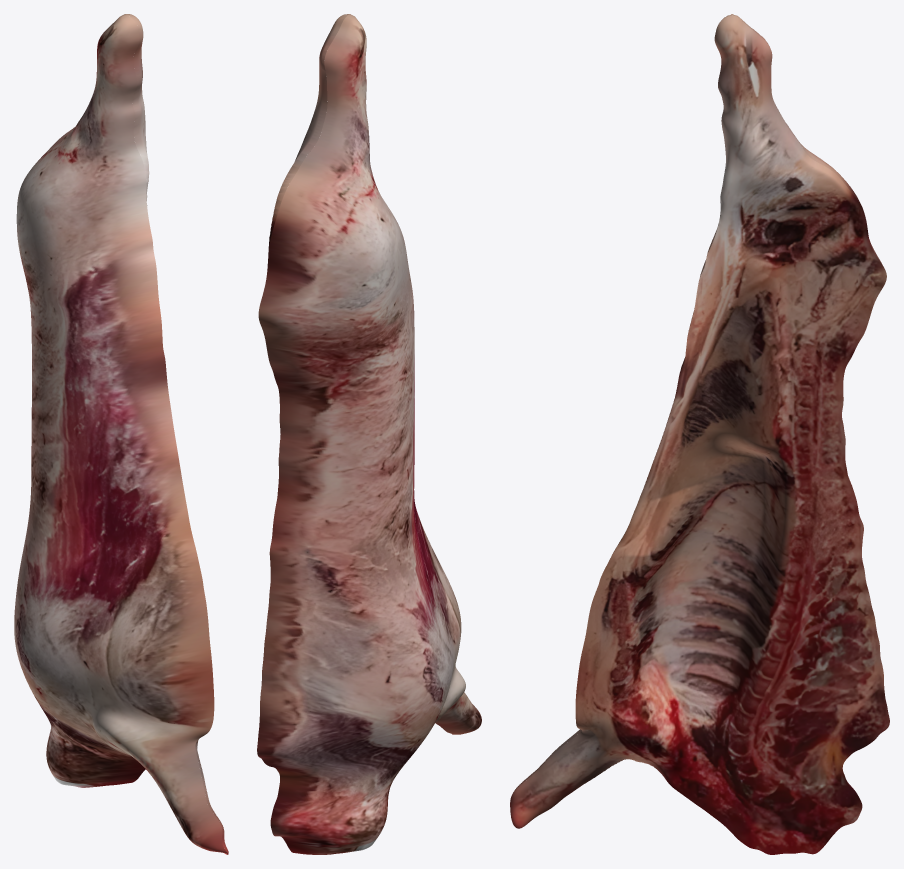
File: demi_carcasse_boeuf_v14.glb
3 views of the same model, side by side, from view 1: azimuth 30°, elevation 25°; view 2: azimuth 150°, elevation 25°; view 3: azimuth 270°, elevation 25° (orthographic). The views are drawn at different scales.
Parts seen in each view (by area): view 1: face_exterieure, face_de_fente; view 2: face_exterieure, face_de_fente; view 3: face_de_fente, face_exterieure.
Part boxes in pixels (<box>): face_exterieure: <box>14,14,228,854</box>; face_de_fente: <box>126,14,228,853</box>; face_exterieure: <box>257,14,481,854</box>; face_de_fente: <box>268,14,452,734</box>; face_de_fente: <box>510,15,889,854</box>; face_exterieure: <box>513,14,882,792</box>.
Bounding box in the file's own units: 0.4163 × 2.5 × 1.03.
2 materials, 2 textured.
